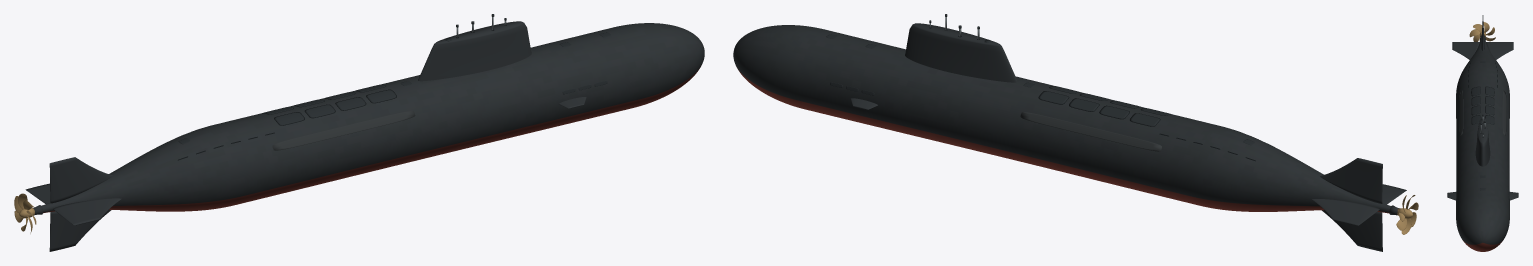
File: RU_SSN_Yasen.glb
3 views of the same model, side by side, from view 1: azimuth 30°, elevation 25°; view 2: azimuth 150°, elevation 25°; view 3: azimuth 270°, elevation 25° (orthographic). The views are drawn at different scales.
Parts seen in each view (by area): view 1: RU_SSN_Yasen_LOD0; view 2: RU_SSN_Yasen_LOD0; view 3: RU_SSN_Yasen_LOD0.
Boxes of the visible parts, bbox=[...] form: RU_SSN_Yasen_LOD0: bbox=[14, 14, 704, 251]; RU_SSN_Yasen_LOD0: bbox=[733, 14, 1418, 251]; RU_SSN_Yasen_LOD0: bbox=[1447, 15, 1518, 251].
Bounding box in the file's own units: 120 × 21.96 × 17.2.
7 materials, 1 textured.
